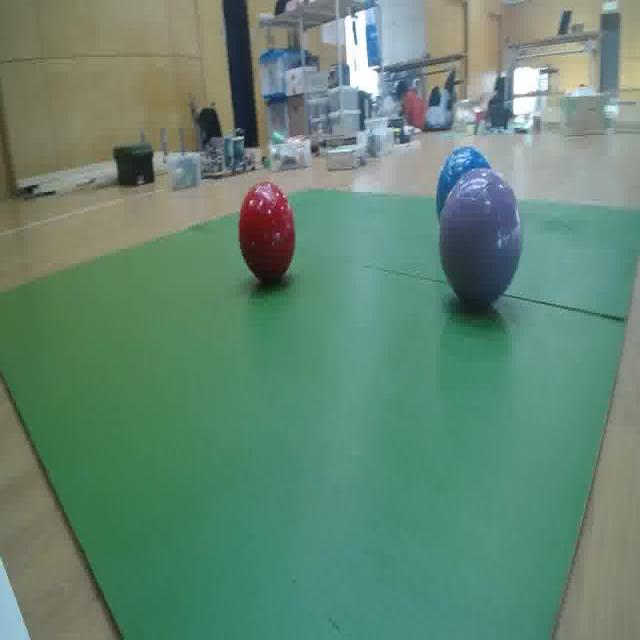blue_ball: (435, 141, 498, 242)
purple_ball: (438, 168, 532, 312)
red_ball: (233, 163, 295, 286)
